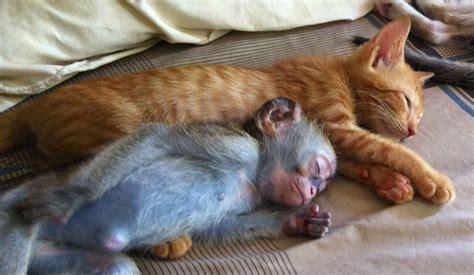cat: (1, 18, 452, 203)
monkey: (19, 97, 336, 252)
